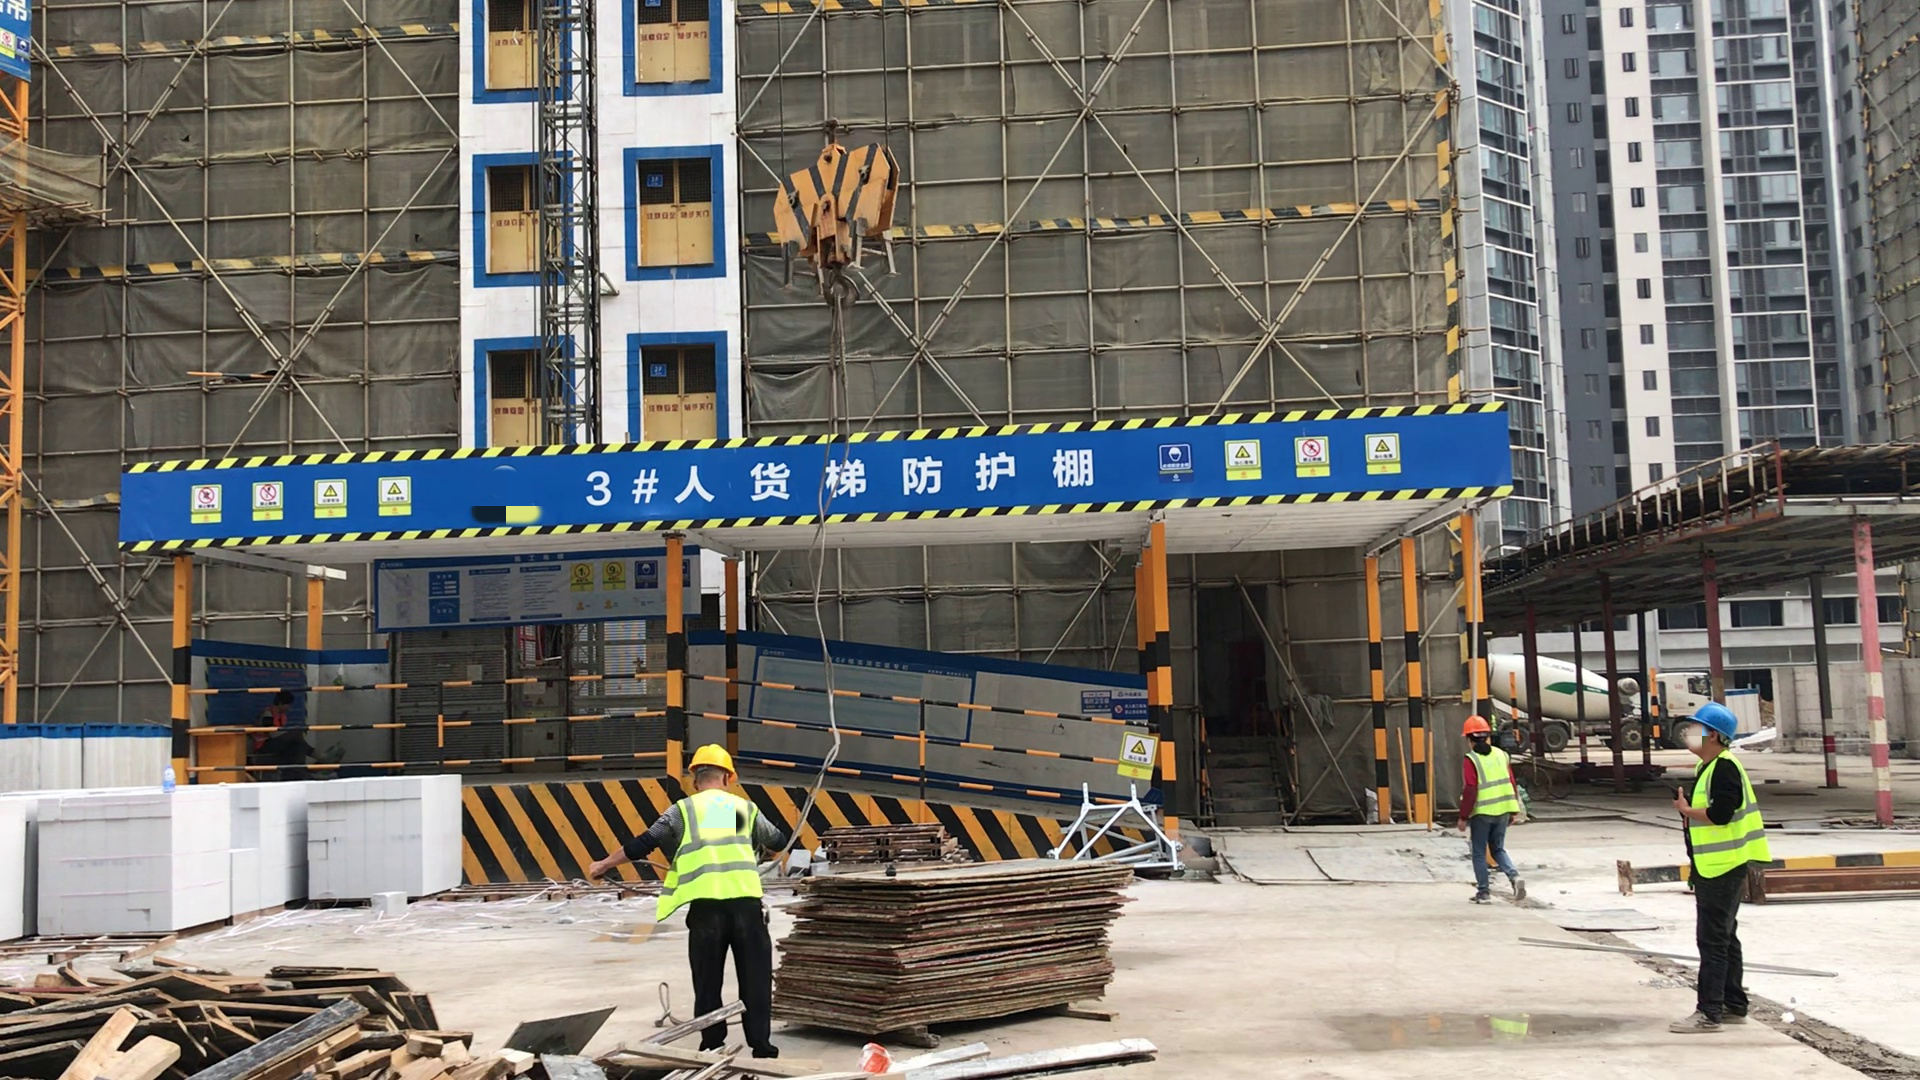board: (776, 856, 1139, 1034)
brick: (1, 771, 463, 940)
helmet: (1685, 702, 1740, 746), (685, 744, 736, 774), (1461, 714, 1490, 737)
hook: (767, 139, 909, 310)
person: (589, 742, 786, 1054), (1675, 702, 1760, 1039), (1444, 715, 1528, 904)
slogan: (1144, 427, 1415, 493), (163, 472, 436, 530), (567, 557, 695, 615), (1116, 728, 1160, 784), (1078, 688, 1149, 721)
vest: (654, 786, 766, 916), (1688, 752, 1766, 878), (1462, 744, 1520, 820)
